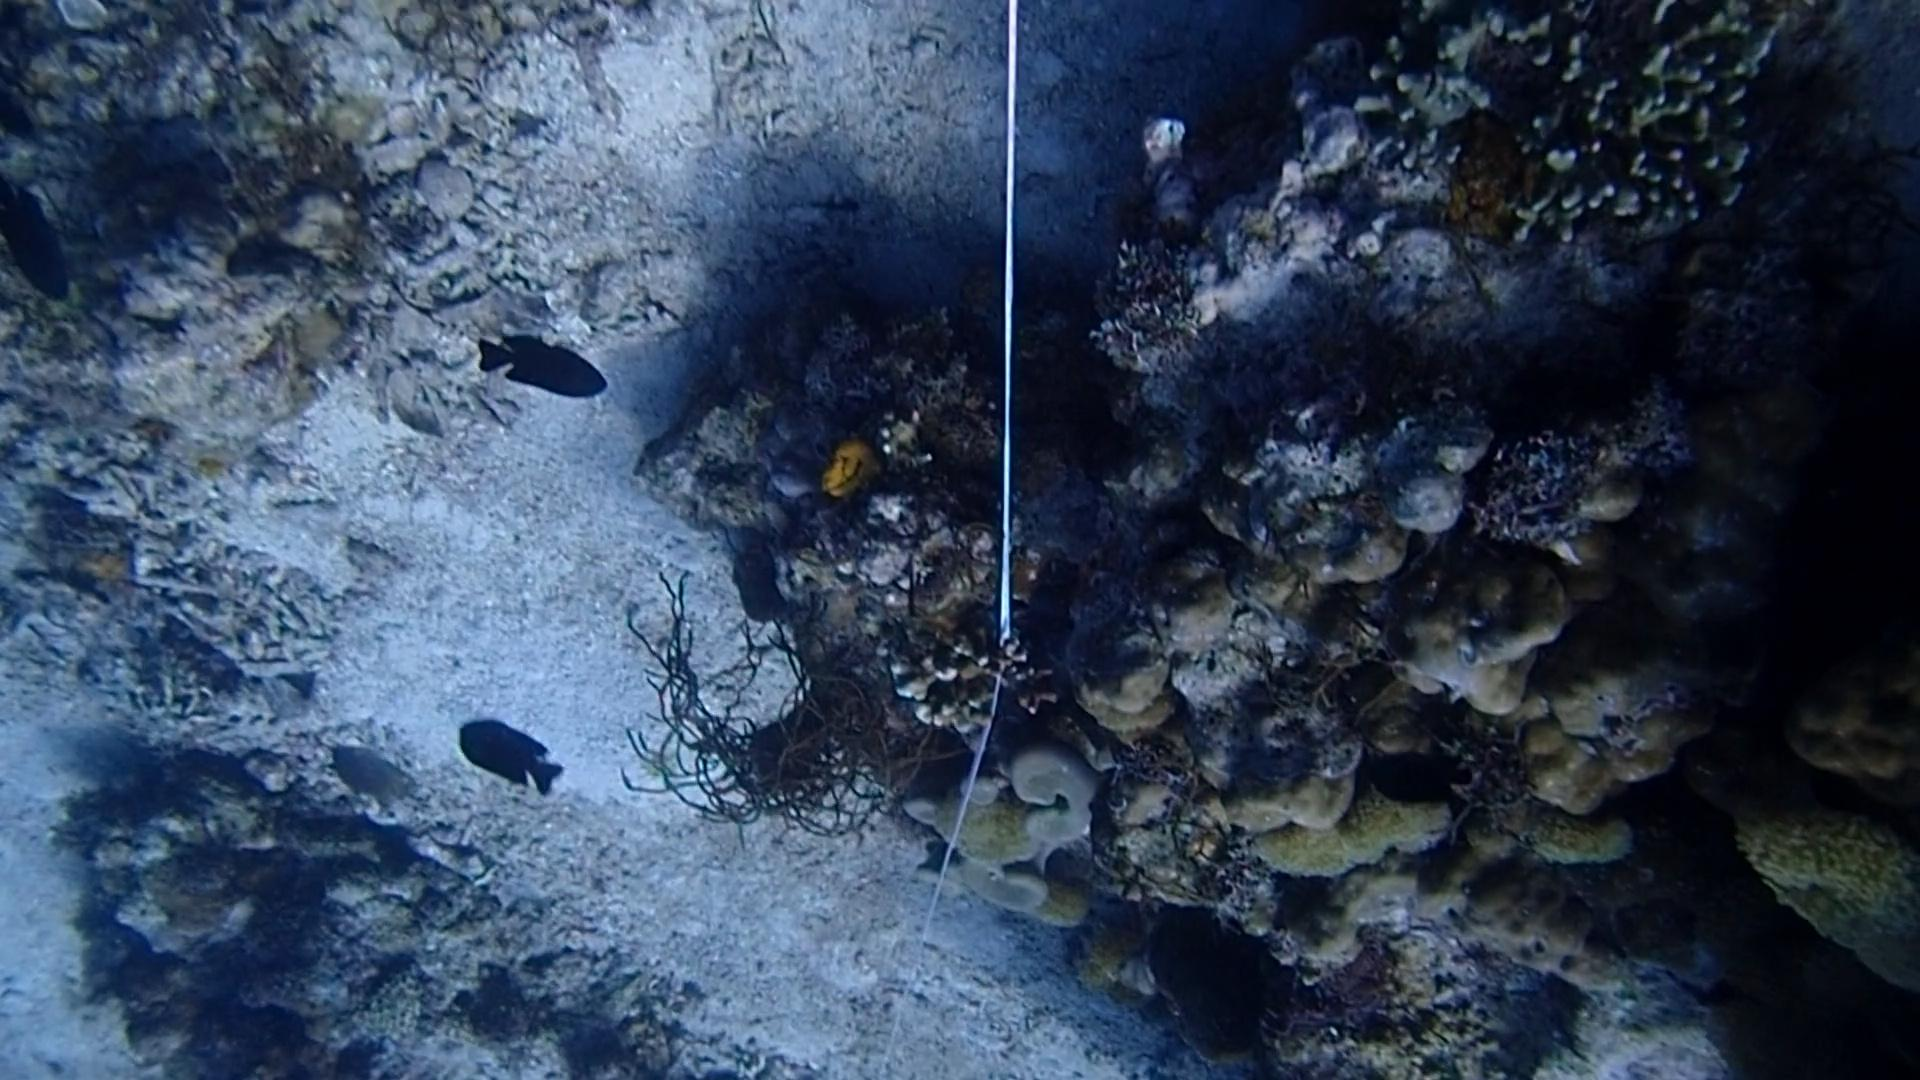Dark Fish: (463, 319, 626, 415), (435, 712, 583, 815), (0, 189, 79, 313)
Light Fish: (320, 736, 429, 811)
